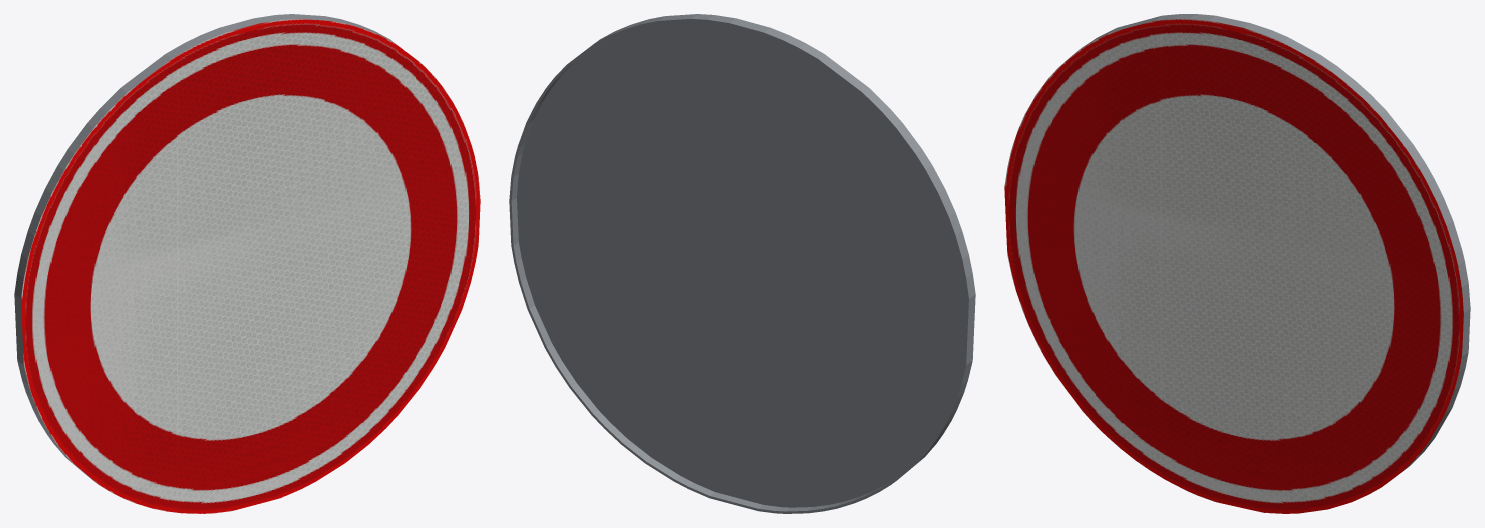
The picture shows the model from 3 angles, left to right: view 1: azimuth 30°, elevation 25°; view 2: azimuth 150°, elevation 25°; view 3: azimuth 330°, elevation 25°; orthographic projection.
Parts seen in each view (by area): view 1: cat_9100349d456fcf8b; view 2: cat_9100349d456fcf8b; view 3: cat_9100349d456fcf8b.
Boxes of the visible parts, <box> form: cat_9100349d456fcf8b: <box>14,14,480,513</box>; cat_9100349d456fcf8b: <box>509,14,975,513</box>; cat_9100349d456fcf8b: <box>1004,14,1470,513</box>.
Bounding box in the file's own units: 0.6 × 0.015 × 0.6.
Materials: 2 (1 with a texture image).
